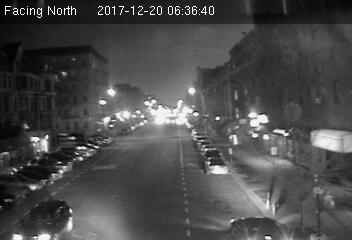car: (9, 199, 79, 240), (205, 156, 228, 175)
